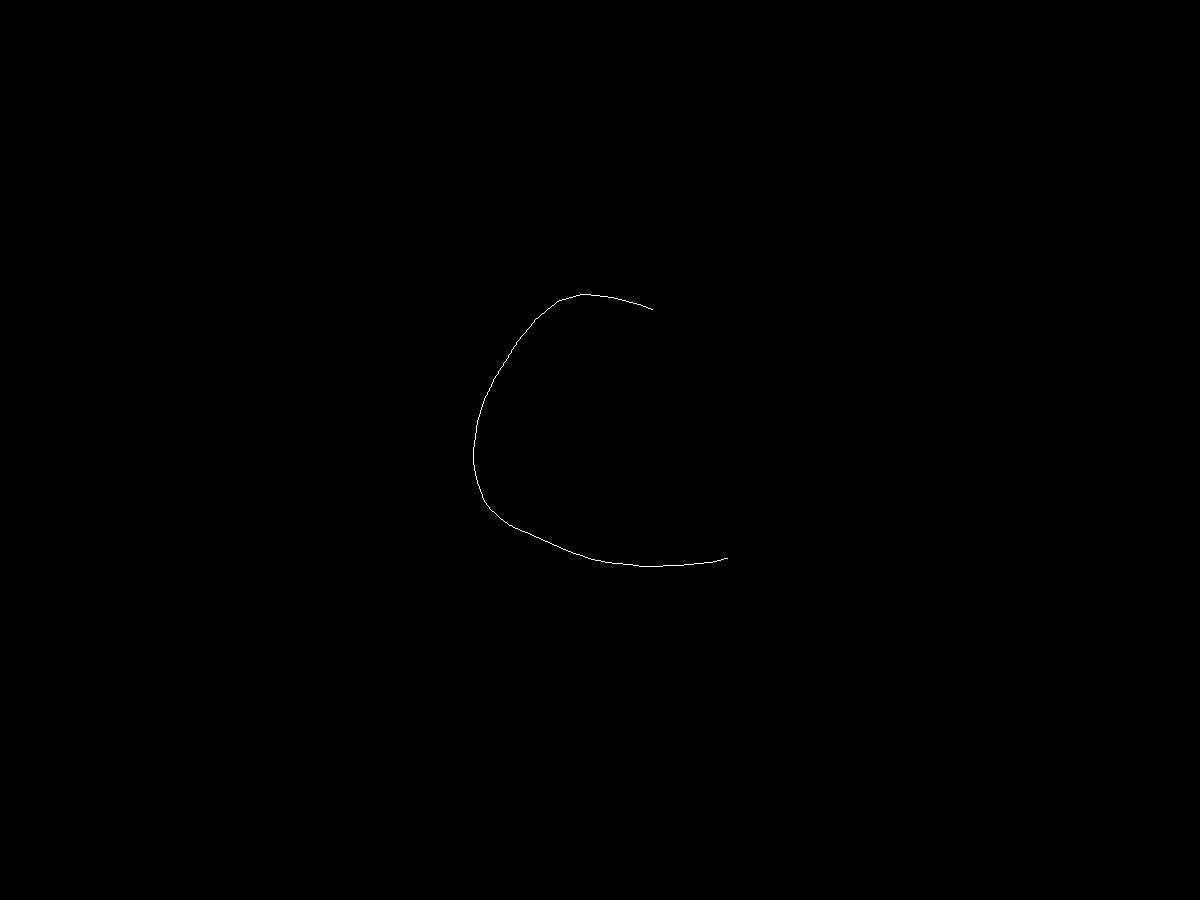dian1: (646, 299, 667, 317)
dian2: (719, 544, 734, 572)
